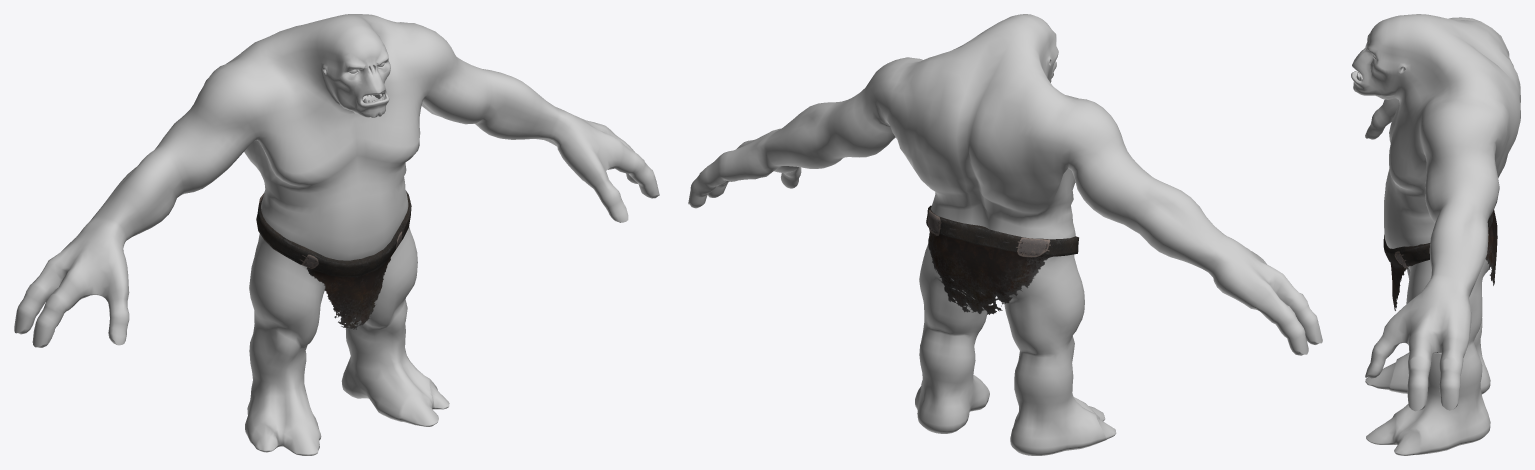
File: TrollApose_low.fbx
3 views of the same model, side by side, from view 1: azimuth 30°, elevation 25°; view 2: azimuth 150°, elevation 25°; view 3: azimuth 270°, elevation 25° (orthographic). The views are drawn at different scales.
Parts seen in each view (by area): view 1: polySurface7, Pants; view 2: polySurface7, Pants; view 3: polySurface7, Pants.
Boxes of the visible parts, x1=… form: polySurface7: x1=14, y1=14, x2=659, y2=455; Pants: x1=256, y1=191, x2=411, y2=330; polySurface7: x1=688, y1=14, x2=1322, y2=455; Pants: x1=926, y1=205, x2=1078, y2=314; polySurface7: x1=1351, y1=14, x2=1520, y2=455; Pants: x1=1383, y1=210, x2=1497, y2=310.
Size of the model in its own units: 878 by 539 by 210.
